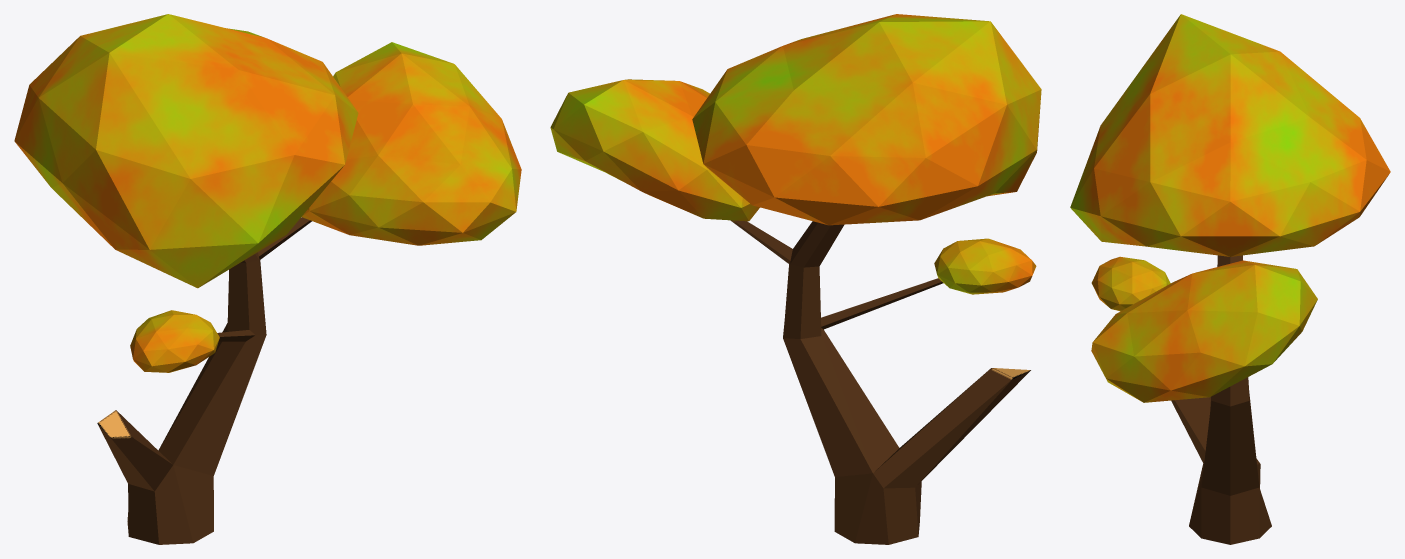
The model's file is FallTree_4.fbx.
3 renders of one model, left to right at view 1: azimuth 30°, elevation 25°; view 2: azimuth 150°, elevation 25°; view 3: azimuth 270°, elevation 25°, orthographic. The views are drawn at different scales.
Parts seen in each view (by area): view 1: FallTree_4; view 2: FallTree_4; view 3: FallTree_4.
Part boxes in pixels (<box>): FallTree_4: <box>14,14,521,544</box>; FallTree_4: <box>550,14,1041,544</box>; FallTree_4: <box>1070,14,1390,544</box>.
Bounding box in the file's own units: 308 × 330 × 203.
Materials: 1 (1 with a texture image).
